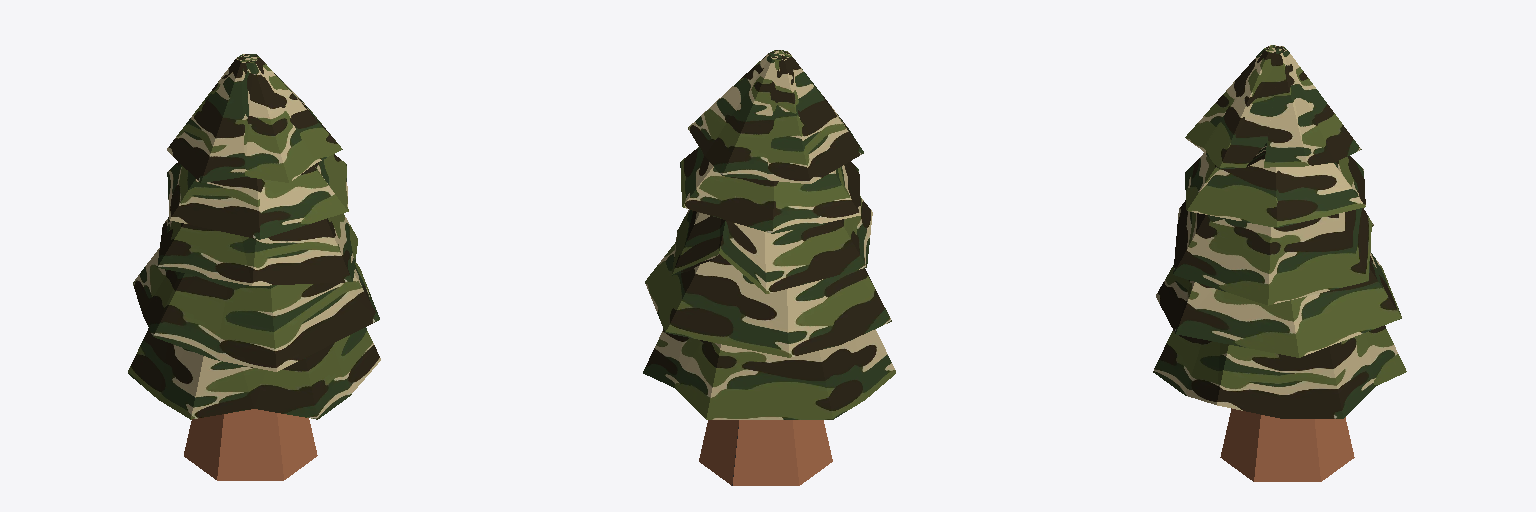
The picture shows the model from 3 angles: view 1: azimuth 30°, elevation 25°; view 2: azimuth 150°, elevation 25°; view 3: azimuth 270°, elevation 25°; orthographic projection.
Parts seen in each view (by area): view 1: Cylinder.002_Material.001, Cylinder.005_Material.001, Cylinder.001_Material.001, Cylinder.003_Material.001, Cylinder.004_Material.001, Cylinder_Material.002; view 2: Cylinder.002_Material.001, Cylinder.001_Material.001, Cylinder.005_Material.001, Cylinder.003_Material.001, Cylinder.004_Material.001, Cylinder_Material.002; view 3: Cylinder.001_Material.001, Cylinder.003_Material.001, Cylinder.005_Material.001, Cylinder.002_Material.001, Cylinder.004_Material.001, Cylinder_Material.002.
Part boxes in pixels (left/top/right/bottom): Cylinder.002_Material.001: left=133, top=248, right=379, bottom=371; Cylinder.005_Material.001: left=167, top=54, right=342, bottom=182; Cylinder.001_Material.001: left=128, top=327, right=380, bottom=419; Cylinder.003_Material.001: left=157, top=213, right=357, bottom=285; Cylinder.004_Material.001: left=167, top=154, right=348, bottom=239; Cylinder_Material.002: left=184, top=409, right=317, bottom=480; Cylinder.002_Material.001: left=645, top=242, right=891, bottom=357; Cylinder.001_Material.001: left=643, top=329, right=895, bottom=419; Cylinder.005_Material.001: left=688, top=50, right=863, bottom=183; Cylinder.003_Material.001: left=672, top=196, right=872, bottom=293; Cylinder.004_Material.001: left=680, top=147, right=860, bottom=233; Cylinder_Material.002: left=699, top=420, right=832, bottom=485; Cylinder.001_Material.001: left=1153, top=325, right=1406, bottom=418; Cylinder.003_Material.001: left=1173, top=200, right=1373, bottom=305; Cylinder.005_Material.001: left=1185, top=45, right=1361, bottom=168; Cylinder.002_Material.001: left=1156, top=253, right=1401, bottom=357; Cylinder.004_Material.001: left=1185, top=153, right=1365, bottom=227; Cylinder_Material.002: left=1220, top=408, right=1354, bottom=481.
Size of the model in its own units: 3.91 by 6.65 by 3.79.
2 materials, 2 textured.